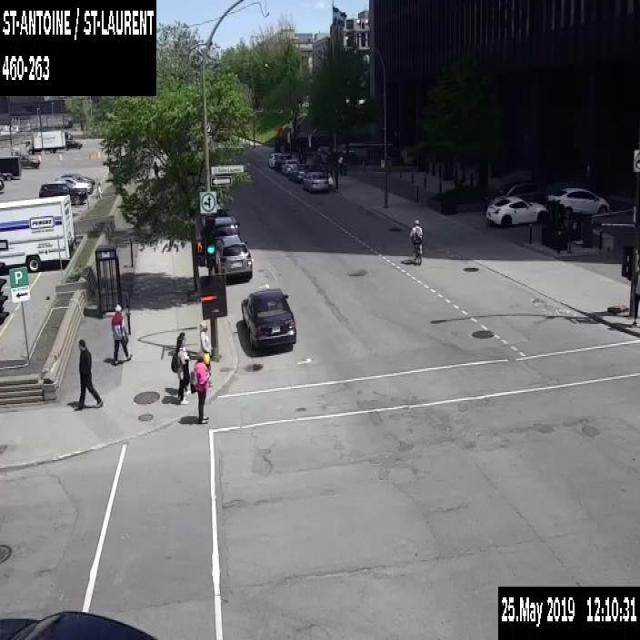construction: (274, 124, 284, 137)
cyclist: (407, 214, 423, 266)
pedestrian: (74, 337, 104, 412), (190, 352, 210, 424), (110, 302, 132, 366), (171, 335, 188, 403), (198, 319, 212, 385), (178, 331, 190, 394), (632, 268, 639, 325), (332, 163, 339, 188)
vehicle: (0, 193, 75, 270), (0, 608, 157, 638), (240, 287, 296, 351), (486, 194, 546, 228), (214, 233, 252, 284), (548, 186, 608, 215), (38, 180, 86, 204), (25, 128, 67, 153), (53, 175, 92, 192), (214, 216, 238, 243), (302, 170, 328, 190), (0, 154, 21, 178), (61, 172, 94, 184), (289, 163, 308, 180), (280, 158, 298, 175), (273, 152, 290, 170), (19, 153, 40, 167), (268, 150, 282, 166), (65, 139, 81, 149), (0, 178, 4, 190), (68, 132, 72, 138)
